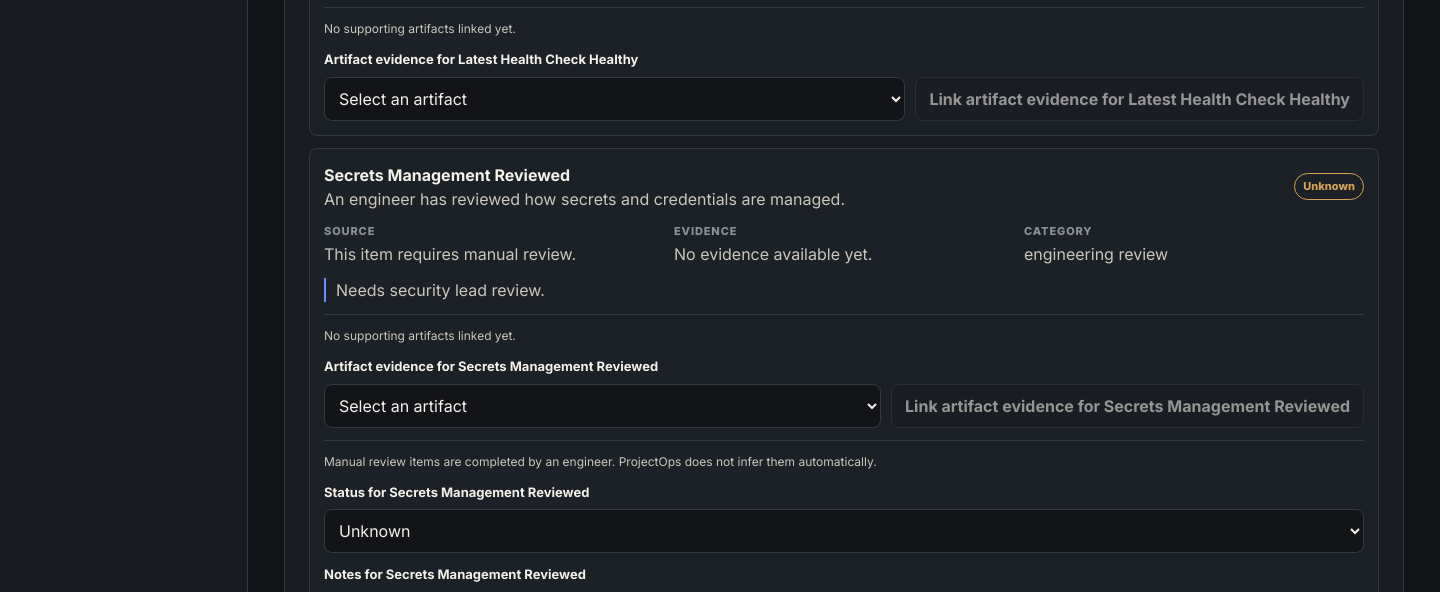
Project detail Production Readiness › links an existing artifact to a readiness item and surfaces duplicate errors
The width and height of the screenshot is (1440, 592).
(page scrolled)
Step 1. Select "Deployment runbook" in the dropdown labelled "Artifact evidence for Secrets Management Reviewed" → (602, 406), box [324,384,881,428]
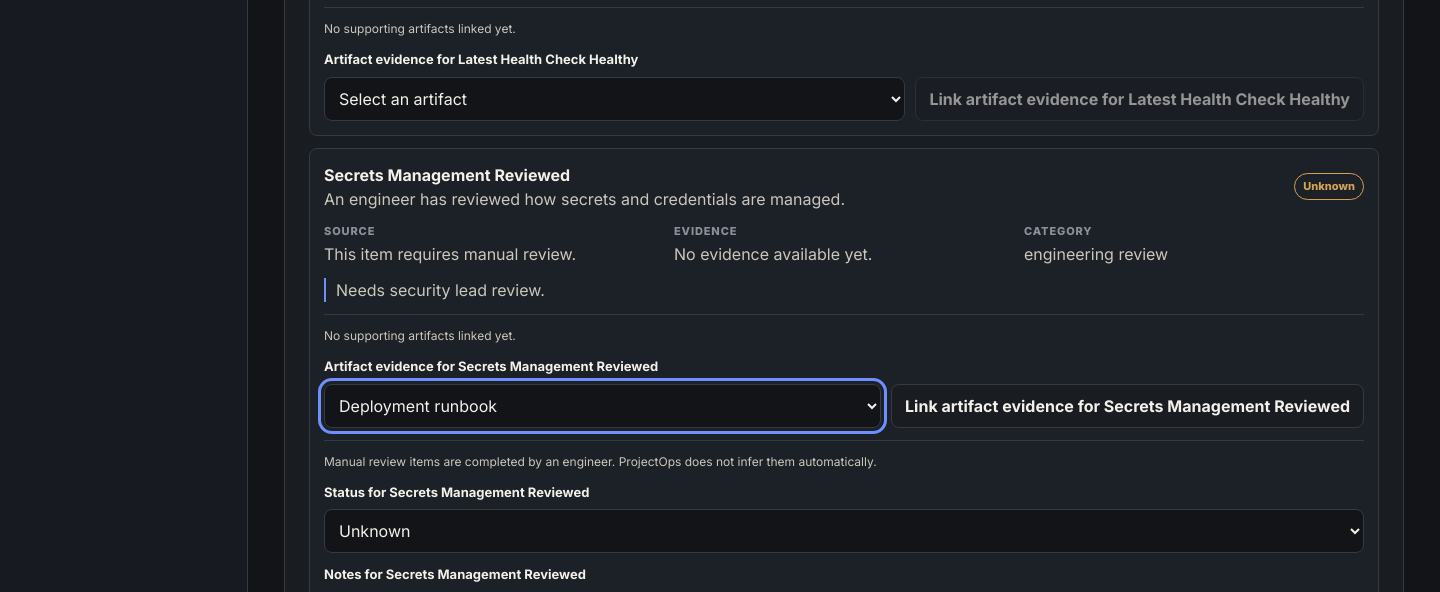
Step 2. Click the button "Link artifact evidence for Secrets Management Reviewed" → (1128, 406), box [891,384,1364,428]
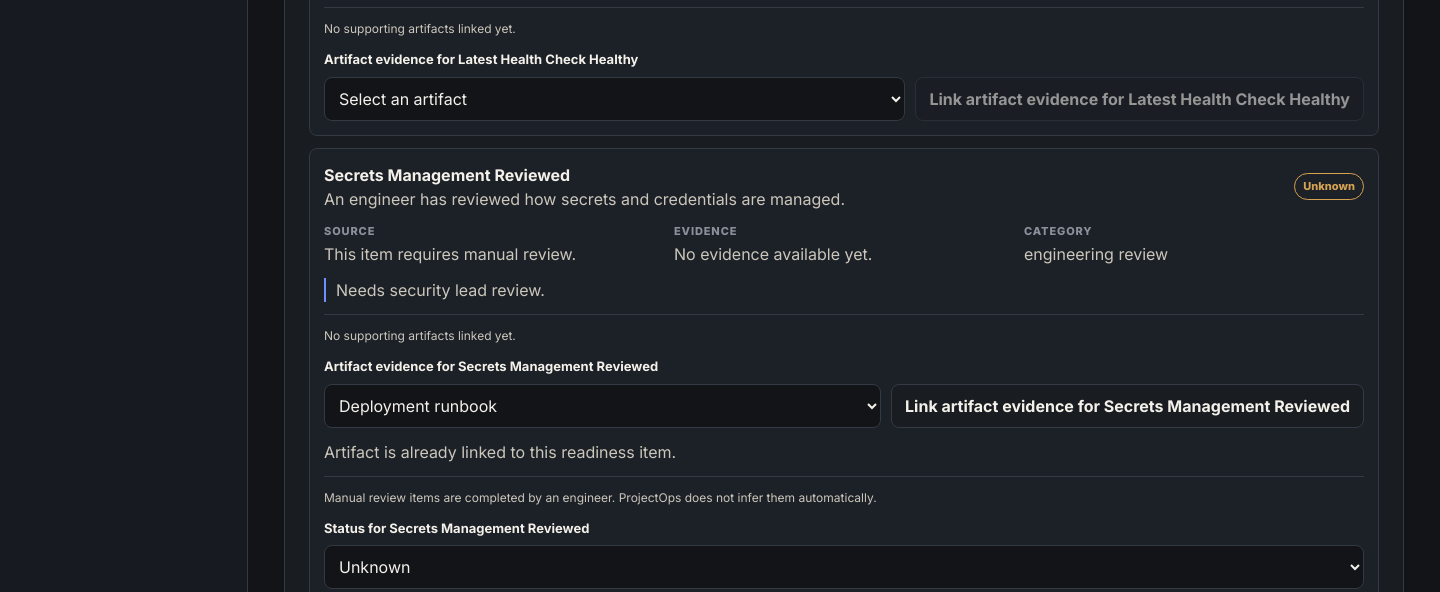
Check: the message reads "Artifact is already linked to this readiness item.", box [324,442,676,462]
